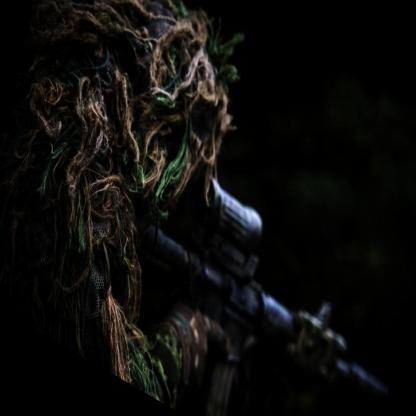rifle: (111, 127, 413, 416)
